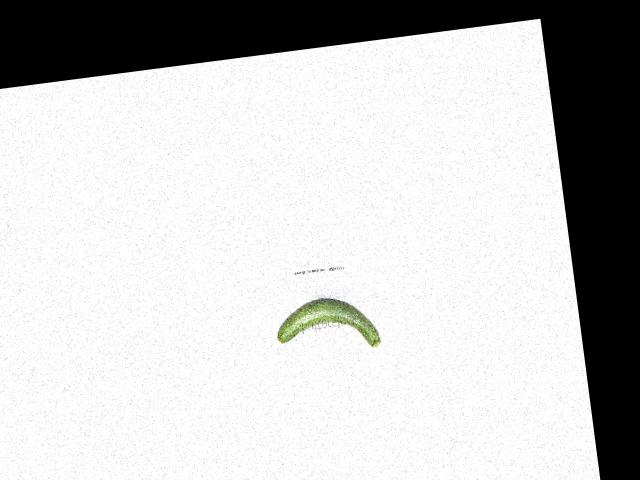cucumber: (273, 291, 381, 359)
